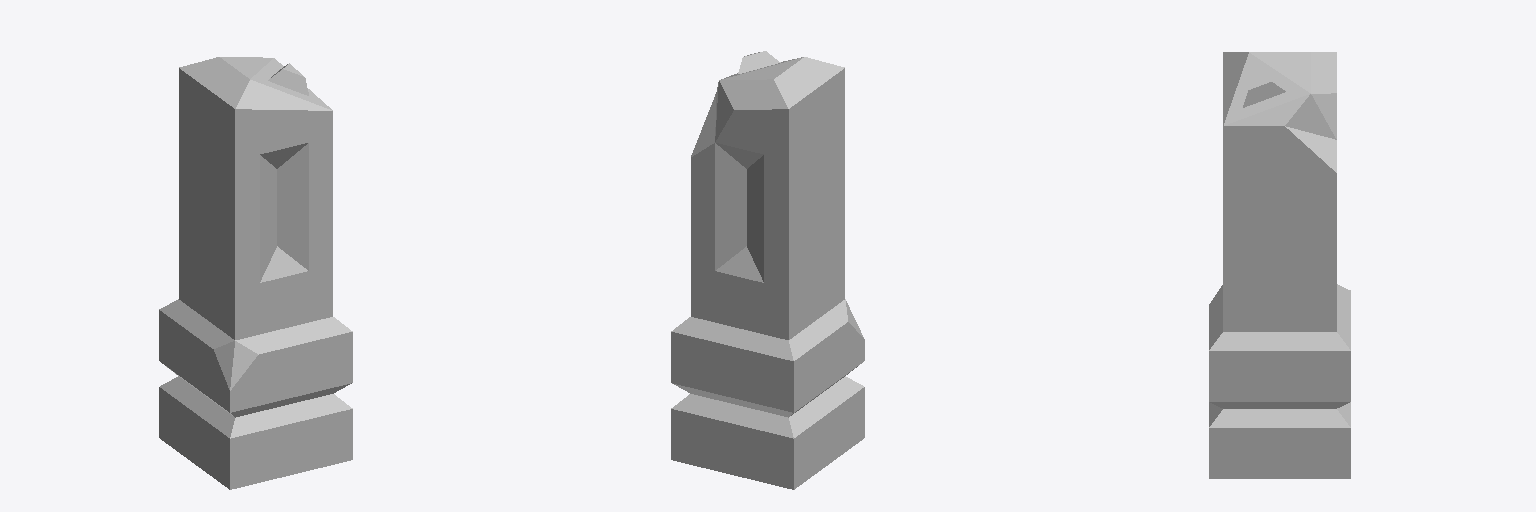
Rendered from fence_pillar_broken.obj.
3 views of the same model, side by side, from view 1: azimuth 30°, elevation 25°; view 2: azimuth 150°, elevation 25°; view 3: azimuth 270°, elevation 25° (orthographic).
Visible parts, largest first — view 1: fence_pillar_broken_Cube.020; view 2: fence_pillar_broken_Cube.020; view 3: fence_pillar_broken_Cube.020.
Boxes of the visible parts, box(x1,y1,x2,y2) form: fence_pillar_broken_Cube.020: box(159, 57, 352, 489); fence_pillar_broken_Cube.020: box(671, 51, 864, 489); fence_pillar_broken_Cube.020: box(1209, 52, 1350, 478).
Size of the model in its own units: 0.5 by 1.5 by 0.5.